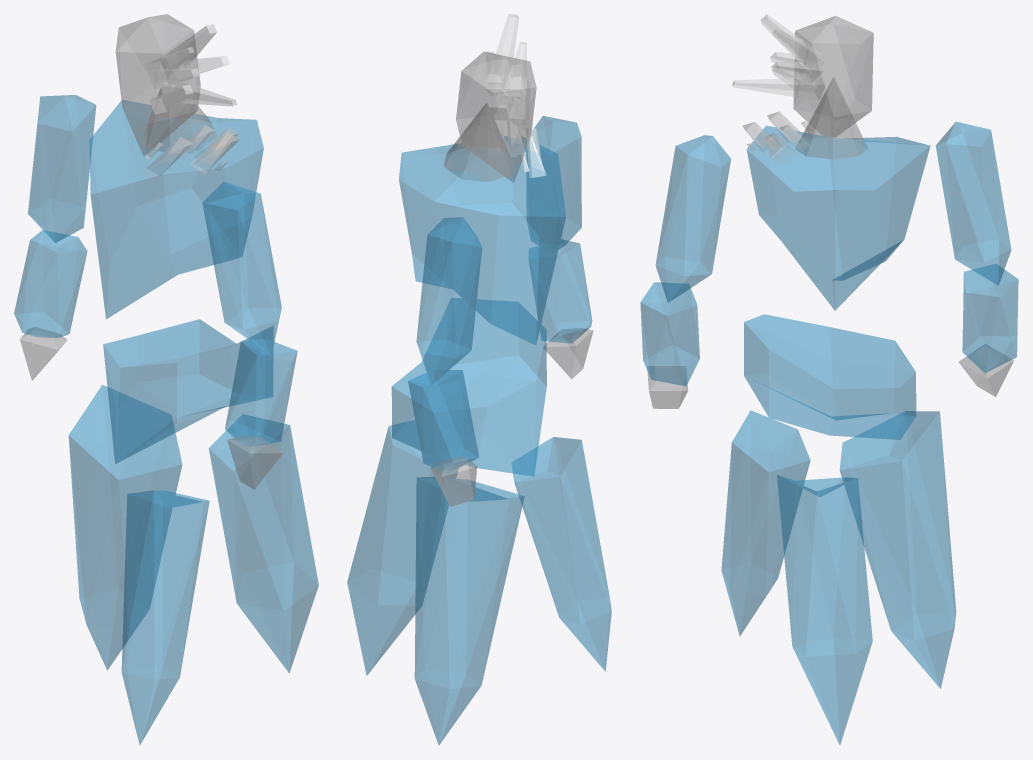
File: ghostIdle24.obj
3 views of the same model, side by side, from view 1: azimuth 30°, elevation 25°; view 2: azimuth 150°, elevation 25°; view 3: azimuth 270°, elevation 25° (orthographic). The views are drawn at different scales.
Parts seen in each view (by area): view 1: Cube.001_Cube.001, Icosphere.005, Icosphere.004, Cube_Cube.002, Icosphere.003, Icosphere.005_Icosphere.001, Icosphere.003_Icosphere.001, Icosphere.007_Icosphere.001, Icosphere.008_Icosphere.001, Icosphere.006_Icosphere.001, Cone_Cone.002, Cube.002_Cube.001 (+10 smaller); view 2: Cube.001_Cube.001, Cube_Cube.002, Icosphere.005, Icosphere.004, Icosphere.003, Icosphere.007_Icosphere.001, Icosphere.003_Icosphere.001, Icosphere.005_Icosphere.001, Icosphere.008_Icosphere.001, Icosphere.006_Icosphere.001, Cone_Cone.002, Cube.003_Cube.001 (+5 smaller); view 3: Cube.001_Cube.001, Icosphere.005, Icosphere.004, Cube_Cube.002, Icosphere.003, Icosphere.005_Icosphere.001, Icosphere.007_Icosphere.001, Icosphere.003_Icosphere.001, Icosphere.006_Icosphere.001, Icosphere.008_Icosphere.001, Cone_Cone.002, Cube.003_Cube.001 (+4 smaller).
Part boxes in pixels (x1,y1,x2,y2): Cube.001_Cube.001: (89,100,263,319); Icosphere.005: (68,385,182,670); Icosphere.004: (208,414,318,673); Cube_Cube.002: (103,319,273,463); Icosphere.003: (121,490,209,745); Icosphere.005_Icosphere.001: (202,182,281,355); Icosphere.003_Icosphere.001: (115,14,200,156); Icosphere.007_Icosphere.001: (28,95,96,242); Icosphere.008_Icosphere.001: (14,230,87,337); Icosphere.006_Icosphere.001: (225,339,297,446); Cone_Cone.002: (144,88,216,151); Cube.002_Cube.001: (227,436,282,489); Cube.001_Cube.001: (399,136,565,344); Cube_Cube.002: (391,298,546,476); Icosphere.005: (414,476,524,745); Icosphere.004: (347,420,458,675); Icosphere.003: (512,437,611,671); Icosphere.007_Icosphere.001: (416,217,482,385); Icosphere.003_Icosphere.001: (456,51,536,182); Icosphere.005_Icosphere.001: (526,116,581,252); Icosphere.008_Icosphere.001: (408,370,478,472); Icosphere.006_Icosphere.001: (528,239,592,343); Cone_Cone.002: (443,103,510,181); Cube.003_Cube.001: (430,456,477,506); Cube.001_Cube.001: (746,125,930,310); Icosphere.005: (839,411,956,688); Icosphere.004: (777,475,872,744); Cube_Cube.002: (744,314,916,439); Icosphere.003: (721,410,810,636); Icosphere.005_Icosphere.001: (655,135,730,302); Icosphere.007_Icosphere.001: (935,121,1011,285); Icosphere.003_Icosphere.001: (793,16,873,137); Icosphere.006_Icosphere.001: (640,282,699,386); Icosphere.008_Icosphere.001: (962,264,1018,372); Cone_Cone.002: (795,77,867,159); Cube.003_Cube.001: (959,344,1013,396).
Bounding box in the file's own units: 16.59 × 49.55 × 25.01.
